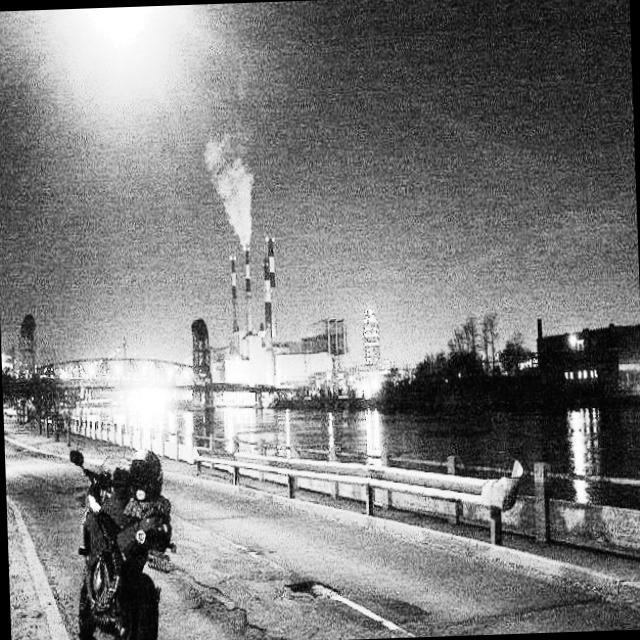Motorcycle: (68, 425, 182, 640)
